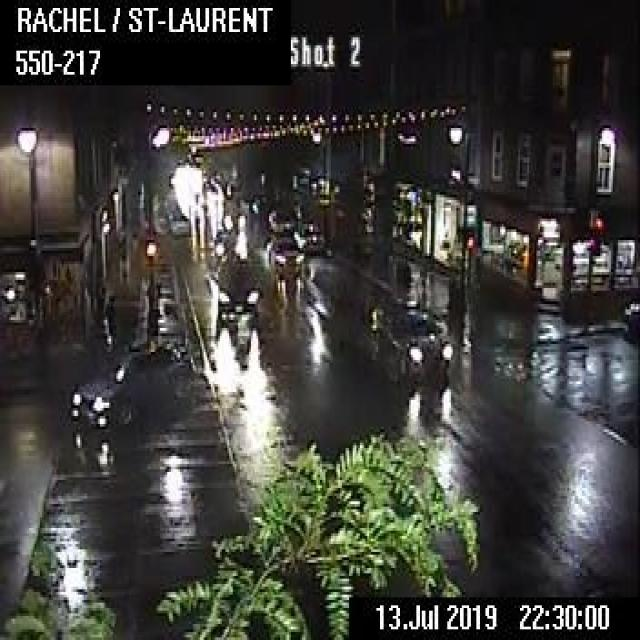pedestrian: (98, 293, 115, 371)
vehicle: (69, 338, 193, 426), (367, 298, 453, 375), (215, 255, 259, 309), (264, 234, 303, 273), (292, 220, 322, 252), (213, 226, 244, 253), (266, 206, 293, 232), (167, 210, 191, 235), (220, 202, 244, 227), (622, 291, 638, 328)
